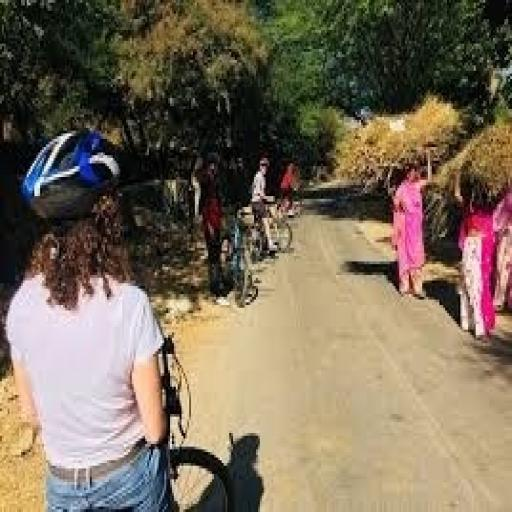cycling: (4, 126, 180, 510), (246, 152, 281, 262)
